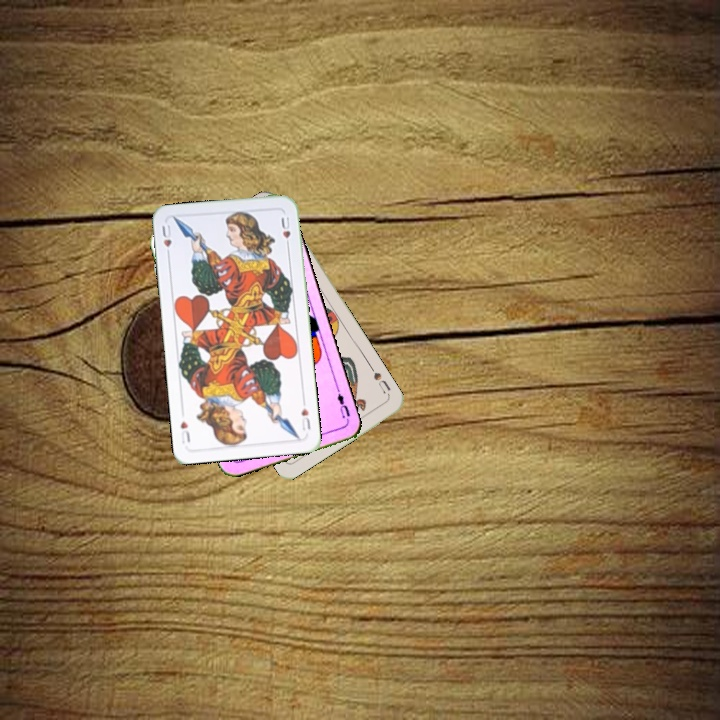EU: (332, 385, 353, 421)
HU: (158, 221, 174, 260), (297, 396, 313, 433)
SU: (366, 362, 393, 396)
